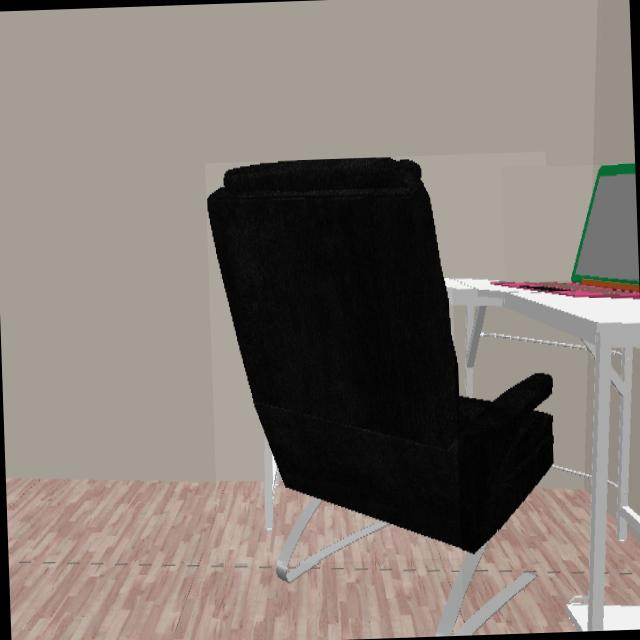chair: (206, 158, 555, 556)
laptop: (505, 164, 639, 300)
table: (452, 283, 640, 630)
